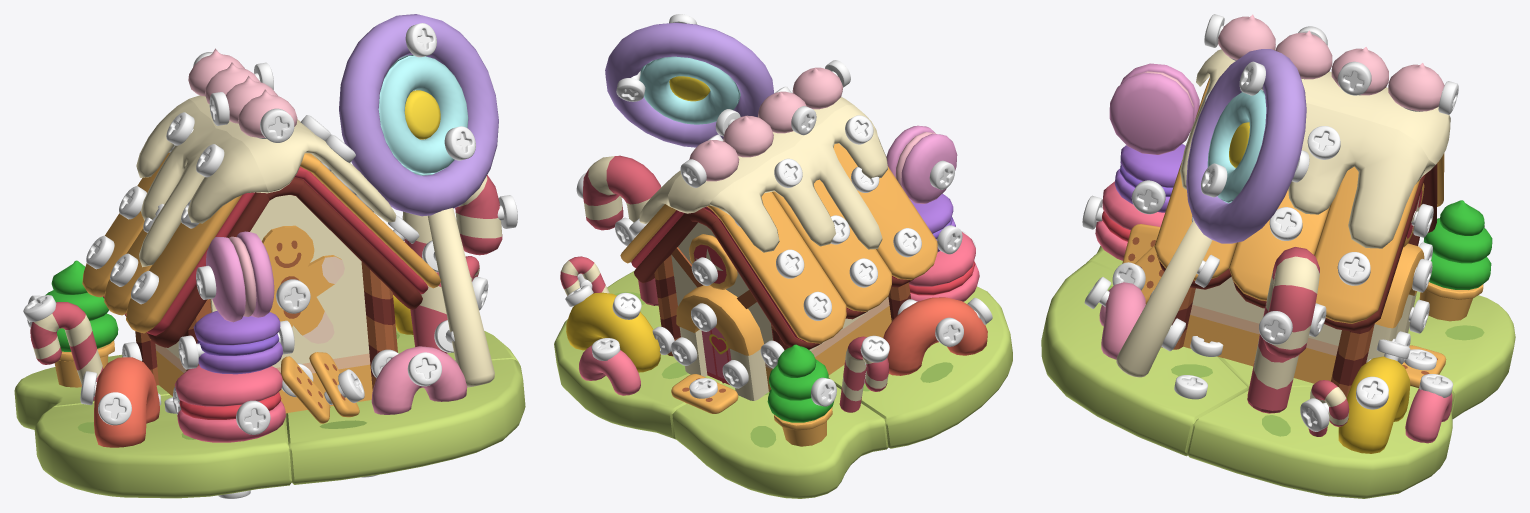
The model's file is CandyHouse.fbx.
The picture shows the model from 3 angles, left to right: view 1: azimuth 30°, elevation 25°; view 2: azimuth 150°, elevation 25°; view 3: azimuth 270°, elevation 25°; orthographic projection. The views are drawn at different scales.
Parts seen in each view (by area): view 1: Board_026, Board_053, Board_054, Screw (×19), Board_048.003, Board_004, Board_010.002, Board_042.001, Board_017, Board_025, Board_027, Board_019 (+22 smaller); view 2: Board_026, Board_052, Screw (×20), Board_048.003, Board_053, Board_010.001, Board_051, Board_016, Board_033, Board_010.002, Board_019, Board_010 (+23 smaller); view 3: Board_026, Board_051, Board_054, Screw (×18), Board_048.001, Board_042.002, Board_052, Board_019, Board_029, Board_003, Board_048.002, Board_025 (+21 smaller).
Part boxes in pixels (x1,y1,x2,y2): Board_026: [339, 14, 498, 216]; Board_053: [34, 395, 291, 498]; Board_054: [286, 359, 525, 484]; Screw (×19): [23, 23, 517, 434]; Board_048.003: [136, 99, 268, 267]; Board_004: [210, 195, 372, 413]; Board_010.002: [126, 192, 269, 347]; Board_042.001: [296, 161, 440, 309]; Board_017: [174, 365, 285, 442]; Board_025: [428, 208, 494, 387]; Board_027: [262, 225, 344, 343]; Board_019: [402, 175, 502, 353]; Board_026: [605, 22, 774, 147]; Board_052: [672, 383, 888, 498]; Screw (×20): [591, 71, 963, 406]; Board_048.003: [709, 105, 887, 252]; Board_053: [828, 286, 1012, 448]; Board_010.001: [711, 192, 846, 349]; Board_051: [554, 270, 722, 439]; Board_016: [676, 285, 768, 400]; Board_033: [883, 297, 987, 375]; Board_010.002: [833, 143, 937, 287]; Board_019: [583, 155, 661, 305]; Board_010: [772, 179, 891, 319]; Board_026: [1186, 49, 1306, 243]; Board_051: [1187, 386, 1454, 498]; Board_054: [1041, 262, 1248, 456]; Screw (×18): [1082, 61, 1453, 431]; Board_048.001: [1180, 78, 1435, 248]; Board_042.002: [1314, 166, 1426, 331]; Board_052: [1408, 291, 1515, 419]; Board_019: [1247, 247, 1319, 413]; Board_029: [1109, 63, 1199, 154]; Board_003: [1183, 276, 1341, 383]; Board_048.002: [1196, 49, 1450, 164]; Board_025: [1116, 219, 1212, 377].
Size of the model in its own units: 10.54 by 9.15 by 9.37.
Materials: 2 (1 with a texture image).
